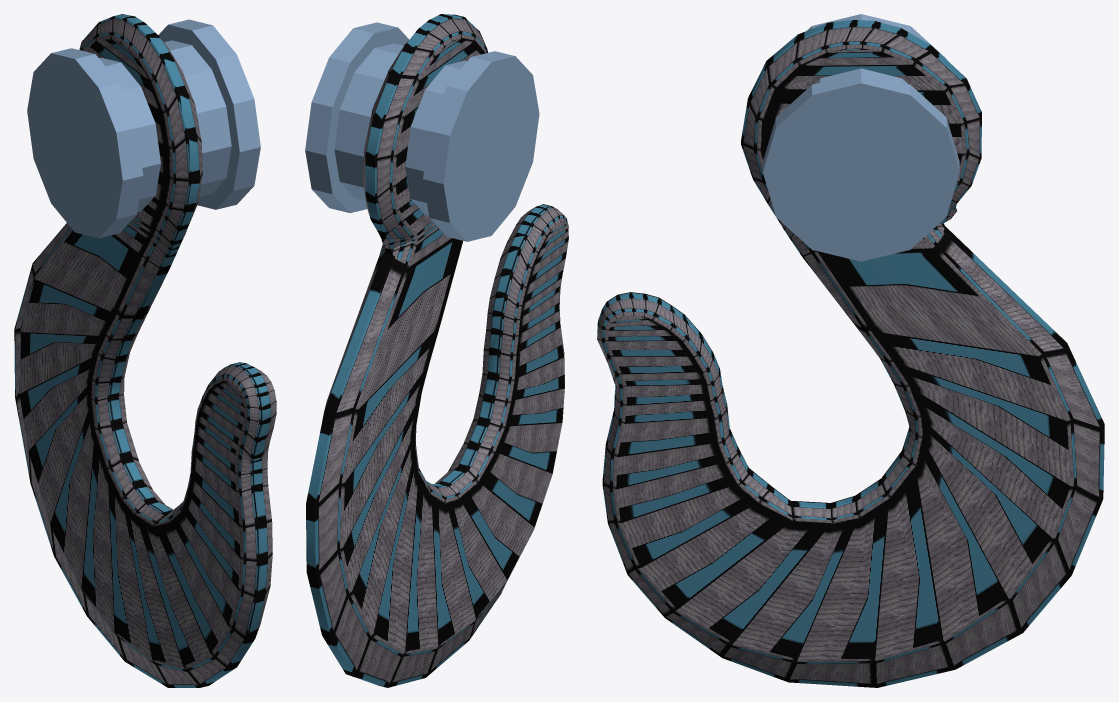
Rendered from Gancho.fbx.
The picture shows the model from 3 angles, left to right: view 1: azimuth 30°, elevation 25°; view 2: azimuth 150°, elevation 25°; view 3: azimuth 270°, elevation 25°; orthographic projection. The views are drawn at different scales.
Visible parts, largest first — view 1: pPlane2, pCylinder20; view 2: pPlane2, pCylinder20; view 3: pPlane2, pCylinder20.
Boxes of the visible parts, x1,y1,x2,y2 form: pPlane2: [14, 14, 276, 687]; pCylinder20: [27, 19, 260, 238]; pPlane2: [306, 14, 568, 687]; pCylinder20: [305, 22, 539, 241]; pPlane2: [597, 20, 1104, 687]; pCylinder20: [763, 14, 959, 261].
Size of the model in its own units: 23.72 by 106 by 73.42.
Materials: 2 (1 with a texture image).
